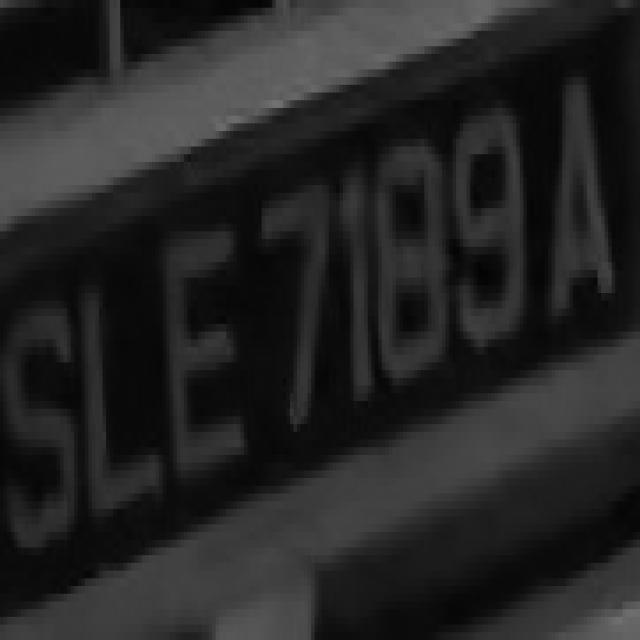1: (311, 154, 375, 447)
7: (240, 162, 329, 416)
8: (371, 116, 456, 393)
9: (446, 108, 530, 378)
A: (524, 70, 622, 362)
E: (148, 193, 248, 501)
L: (71, 239, 166, 548)
S: (0, 277, 81, 609)
